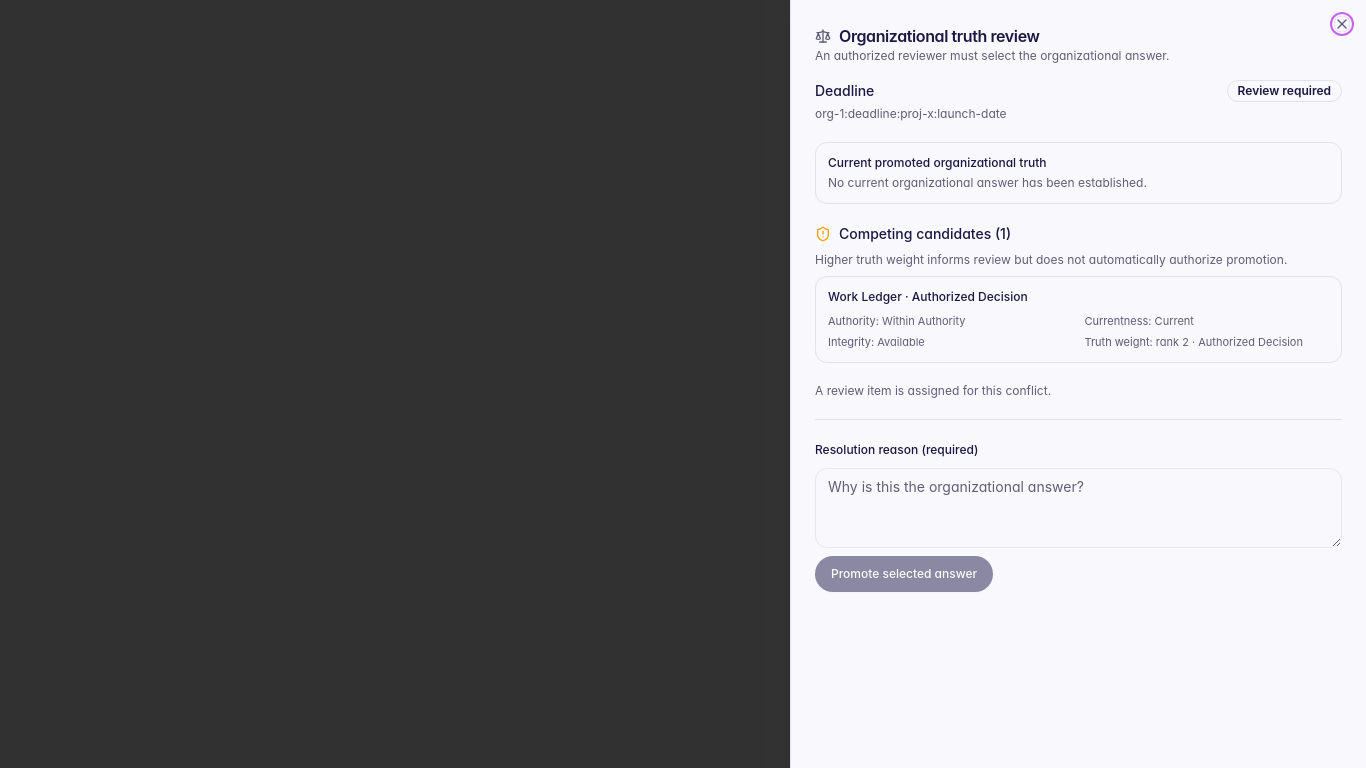
it: Organizational Truth Review — drawer › resolve authorization failure shows a safe denial and reveals nothing
Click the button with test id "org-truth-candidate".
click(928, 296)  # box x1=815 y1=276 x2=1342 y2=363
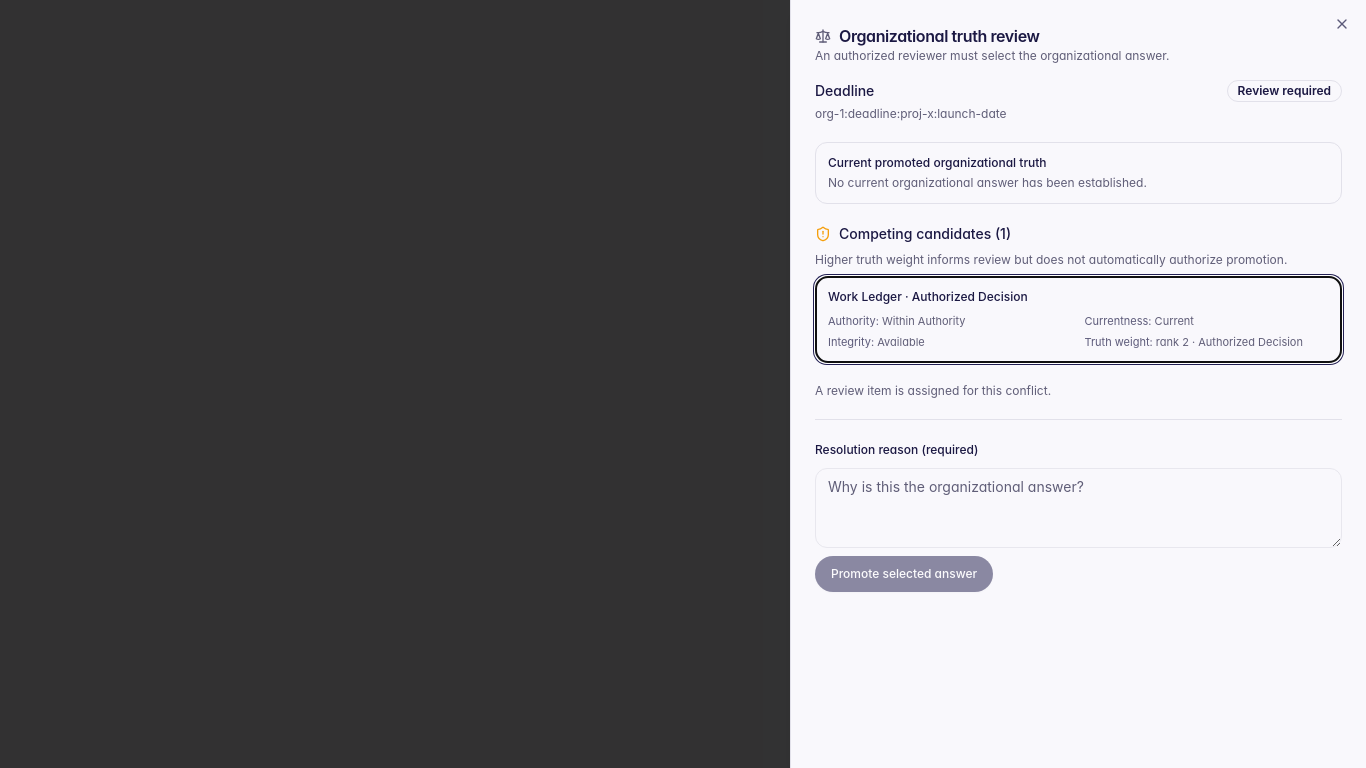
Type "reason" into the text box with test id "org-truth-reason".
click(1078, 508); type("reason")  # box x1=815 y1=468 x2=1342 y2=548
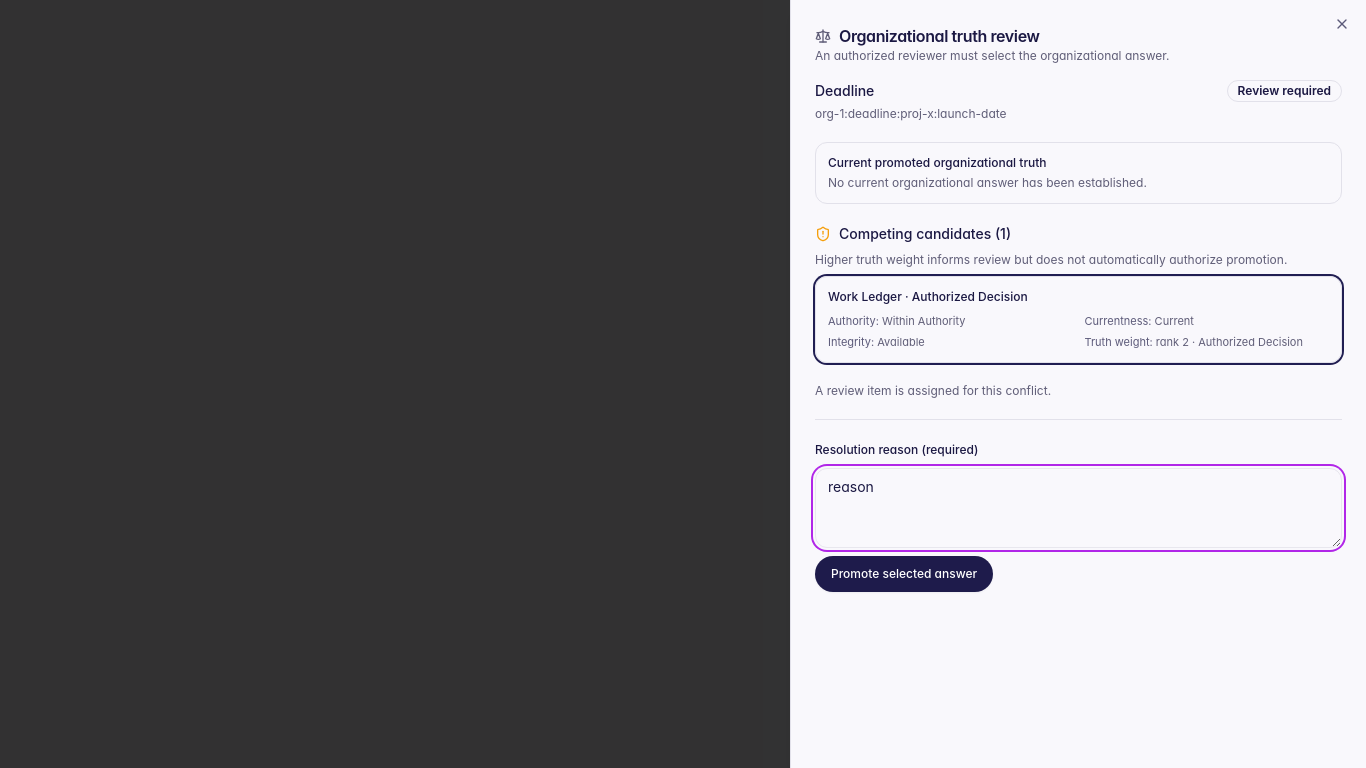
Click the button with test id "org-truth-resolve".
click(904, 574)  # box x1=815 y1=556 x2=993 y2=592
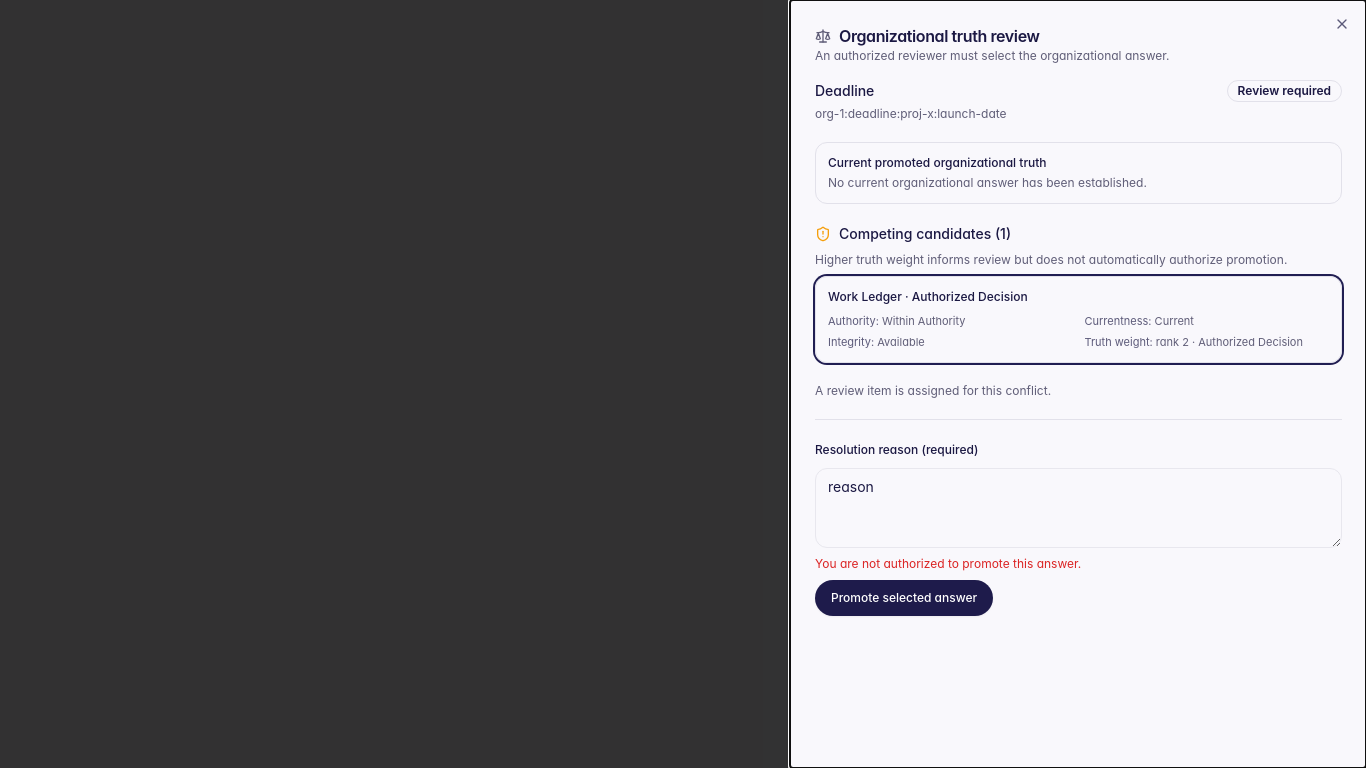
Expected: the message "You are not authorized to promote this answer." is shown, x1=815 y1=556 x2=1081 y2=571
